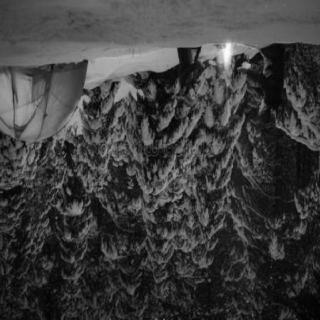other: (4, 62, 90, 154)
